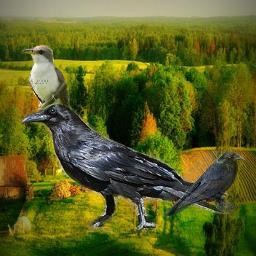Crow: (21, 103, 236, 234), (164, 151, 246, 217)
Cuckoo: (23, 44, 83, 140)
